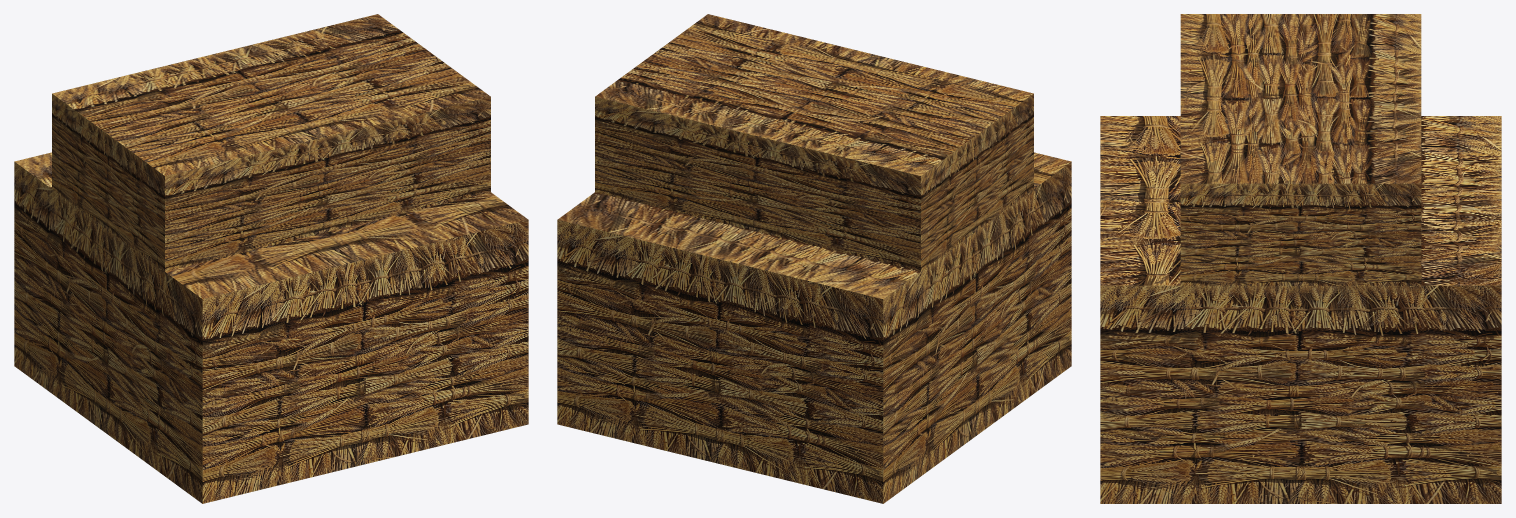
File: trojan_farm.obj
The picture shows the model from 3 angles, left to right: view 1: azimuth 30°, elevation 25°; view 2: azimuth 150°, elevation 25°; view 3: azimuth 270°, elevation 25°; orthographic projection. The views are drawn at different scales.
Visible parts, largest first — view 1: building; view 2: building; view 3: building.
Boxes of the visible parts, x1,y1,x2,y2 form: building: [14, 14, 528, 503]; building: [557, 14, 1071, 503]; building: [1100, 14, 1501, 503].
Bounding box in the file's own units: 2.5 × 2.2 × 2.5.
